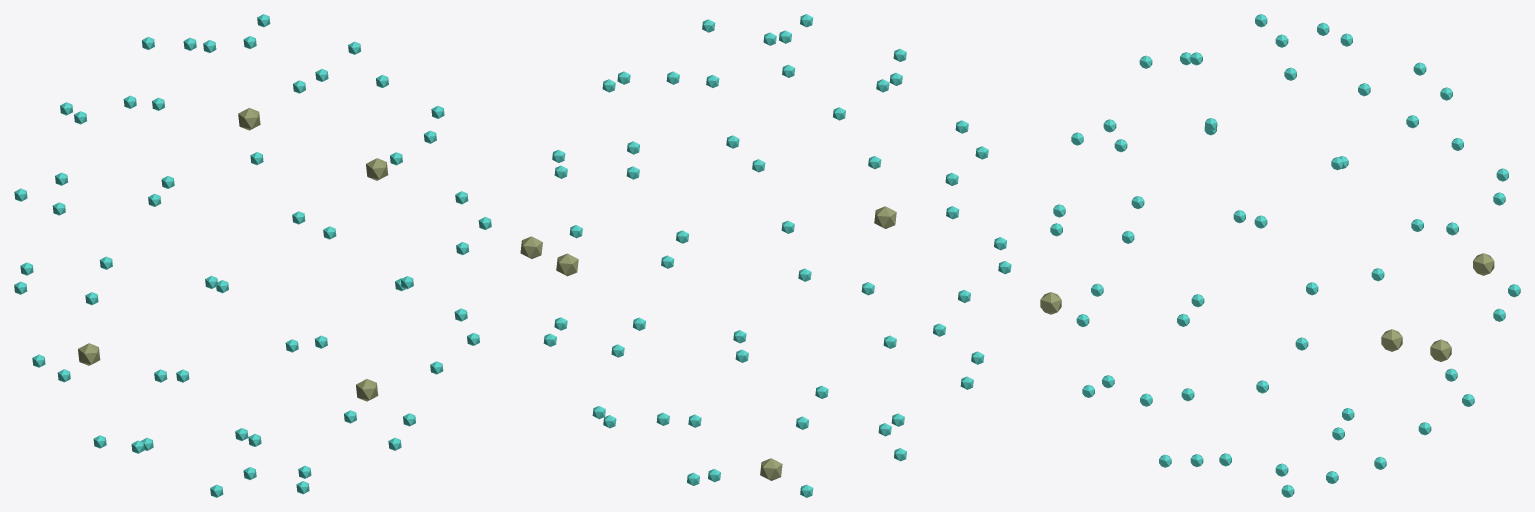
The model's file is globe-lattice-low.glb.
The picture shows the model from 3 angles, left to right: view 1: azimuth 30°, elevation 25°; view 2: azimuth 150°, elevation 25°; view 3: azimuth 270°, elevation 25°; orthographic projection.
Parts seen in each view (by area): view 1: shell_02, shell_03, shell_00, shell_04, shell_05, shell_01; view 2: shell_02, shell_03, shell_00, shell_04, shell_01, shell_05; view 3: shell_02, shell_03, shell_00, shell_05, shell_04, shell_01.
Boxes of the visible parts, x1=… form: shell_02: x1=20, y1=40, x2=305, y2=365; shell_03: x1=205, y1=152, x2=467, y2=478; shell_00: x1=315, y1=69, x2=491, y2=374; shell_04: x1=74, y1=14, x2=388, y2=165; shell_05: x1=93, y1=335, x2=401, y2=497; shell_01: x1=14, y1=188, x2=167, y2=453; shell_02: x1=543, y1=166, x2=828, y2=480; shell_03: x1=752, y1=30, x2=988, y2=348; shell_00: x1=520, y1=71, x2=719, y2=330; shell_04: x1=602, y1=14, x2=906, y2=169; shell_01: x1=861, y1=120, x2=1011, y2=436; shell_05: x1=592, y1=349, x2=906, y2=497; shell_02: x1=1430, y1=87, x2=1520, y2=406; shell_03: x1=1040, y1=119, x2=1127, y2=397; shell_00: x1=1122, y1=210, x2=1423, y2=466; shell_05: x1=1159, y1=337, x2=1431, y2=497; shell_04: x1=1139, y1=14, x2=1426, y2=170; shell_01: x1=1131, y1=52, x2=1418, y2=307.
Size of the model in its own units: 3.21 by 3.3 by 3.25.
